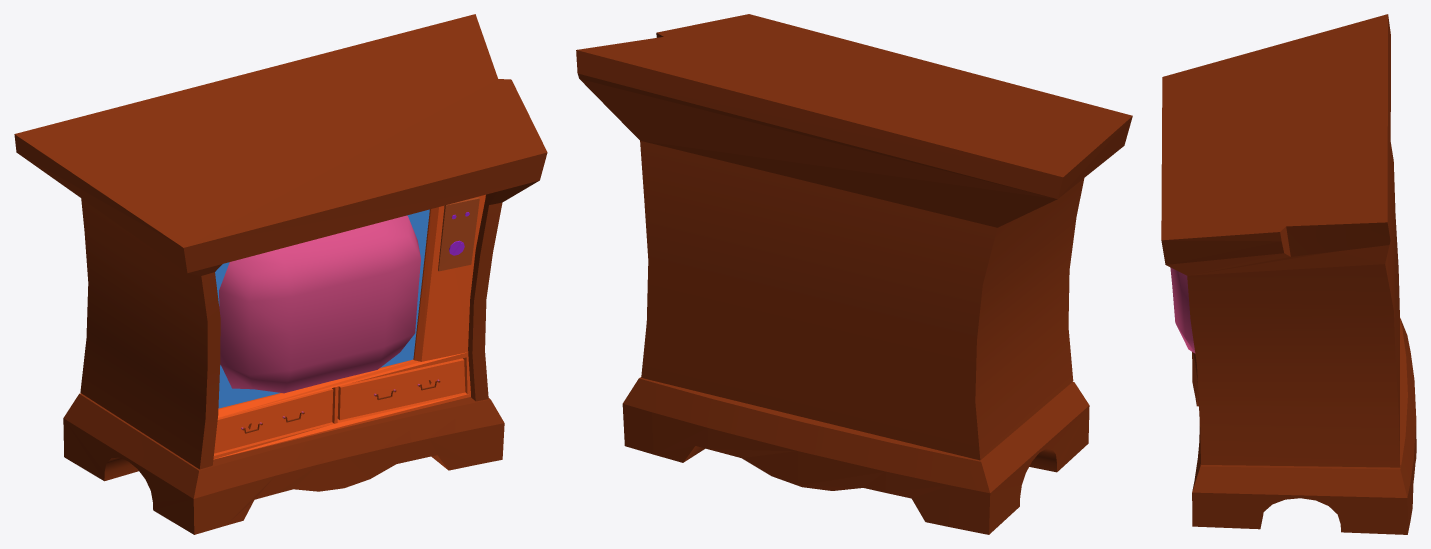
3 renders of one model, left to right at view 1: azimuth 30°, elevation 25°; view 2: azimuth 150°, elevation 25°; view 3: azimuth 270°, elevation 25°, orthographic. The views are drawn at different scales.
Visible parts, largest first — view 1: TV_cabinet_01; view 2: TV_cabinet_01; view 3: TV_cabinet_01.
Part boxes in pixels (x1,y1,x2,y2): TV_cabinet_01: (14, 14, 547, 534); TV_cabinet_01: (576, 14, 1132, 534); TV_cabinet_01: (1161, 14, 1416, 534).
Size of the model in its own units: 55.78 by 40.85 by 27.86.
